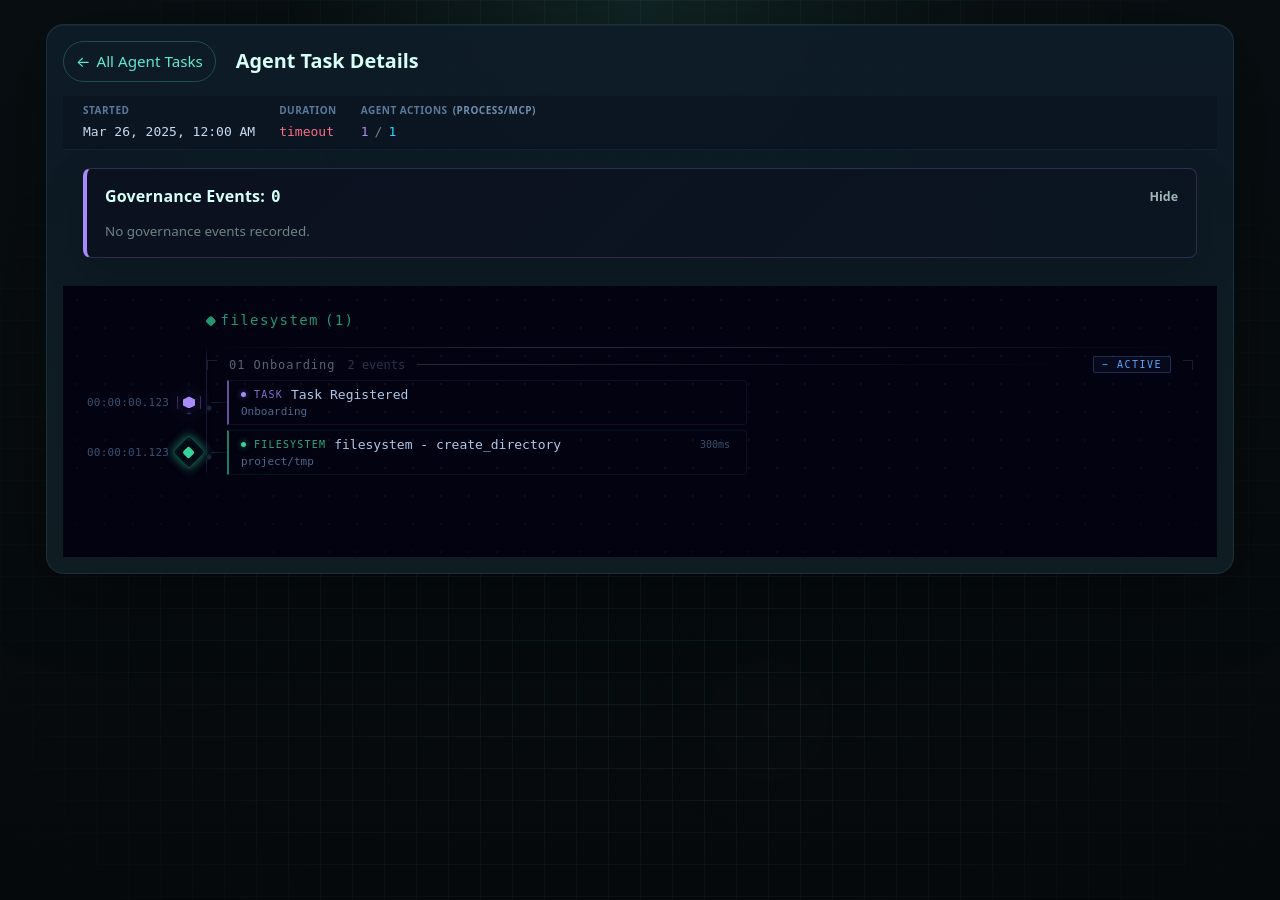
task run detail › pairs persisted MCP direction values into one exchange card
Expected: the heading "Agent Task Details" is shown, 236,50 -> 419,72
Expected: the elements with test id "timeline-event-title" read "Task Registered", "filesystem - create_directory", in this order, 291,387 -> 408,402; 334,437 -> 561,452
Click the button with aria-label "show event details for create_directory" at [640, 452], box 87,428 -> 1193,478
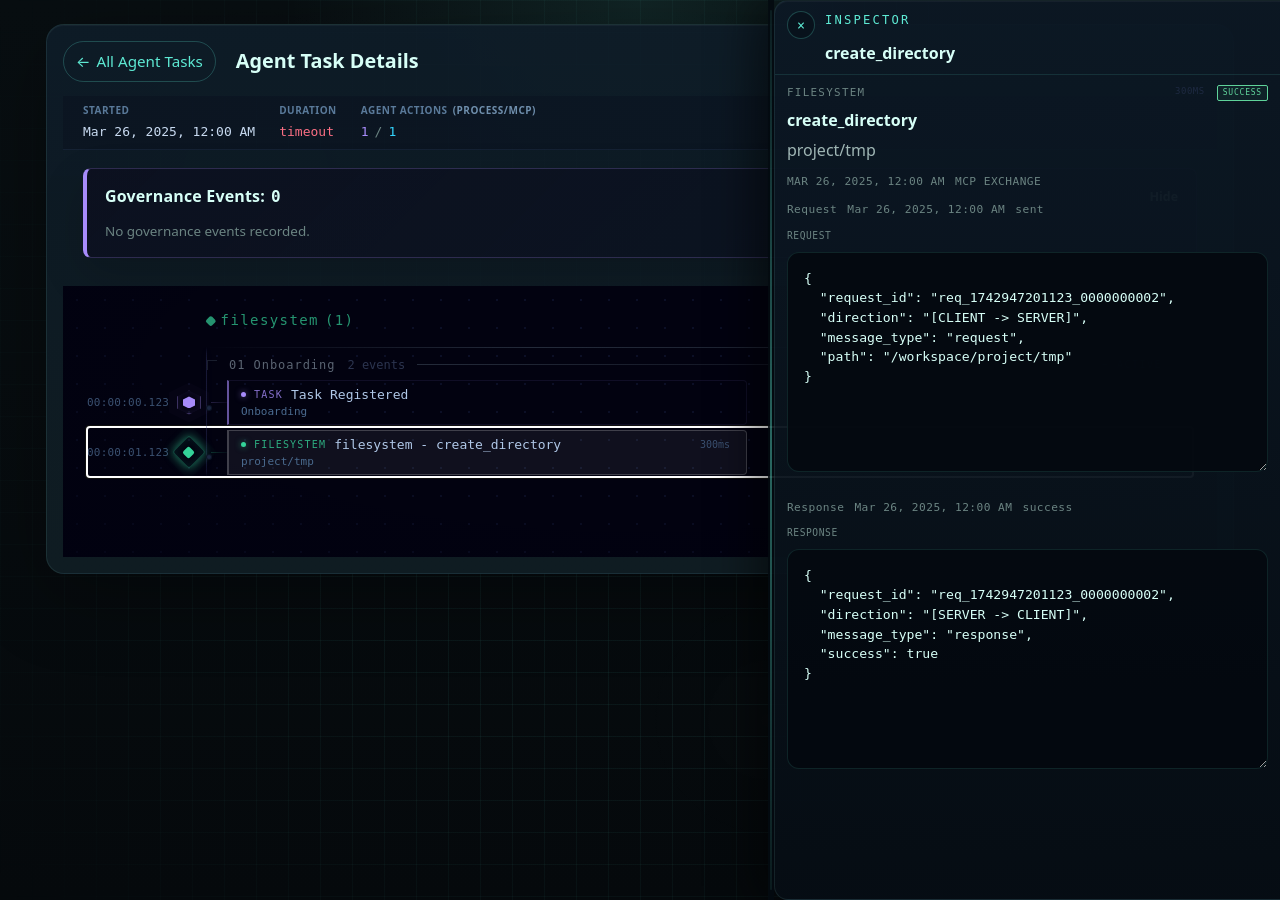
Expected: the text "Request" is shown 2 times, 787,202 -> 837,219; 787,230 -> 831,241
Expected: the text "Response" is shown 2 times, 787,500 -> 844,516; 787,527 -> 838,538
